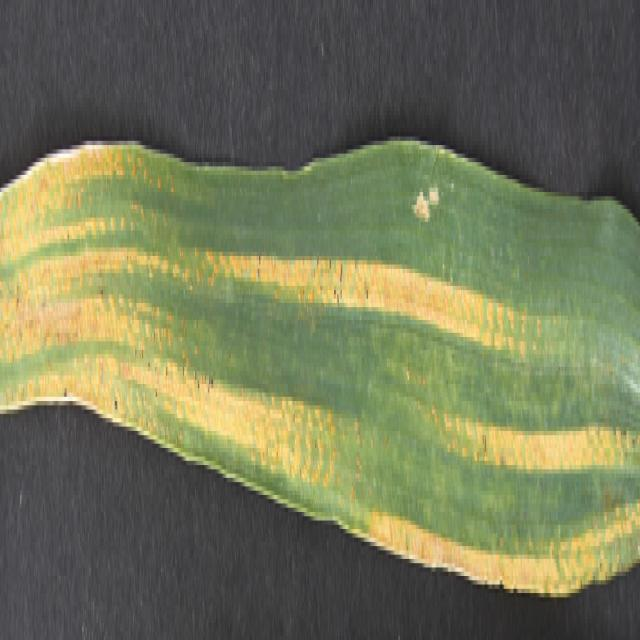leaf rust: (0, 124, 640, 589)
